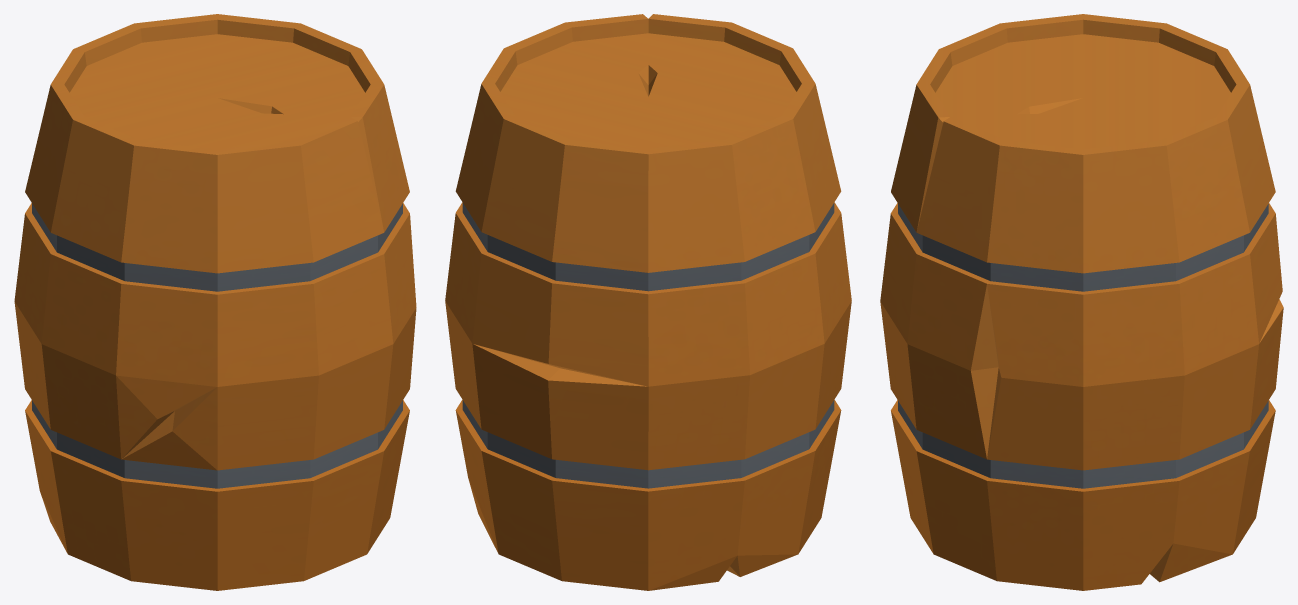
Rendered from barril.fbx.
3 renders of one model, left to right at view 1: azimuth 30°, elevation 25°; view 2: azimuth 150°, elevation 25°; view 3: azimuth 270°, elevation 25°, orthographic.
Parts seen in each view (by area): view 1: barril; view 2: barril; view 3: barril.
Boxes of the visible parts, box(x1,y1,x2,y2) form: barril: box(14, 14, 416, 590); barril: box(445, 14, 851, 590); barril: box(880, 14, 1283, 590).
Size of the model in its own units: 334 by 393 by 332.
